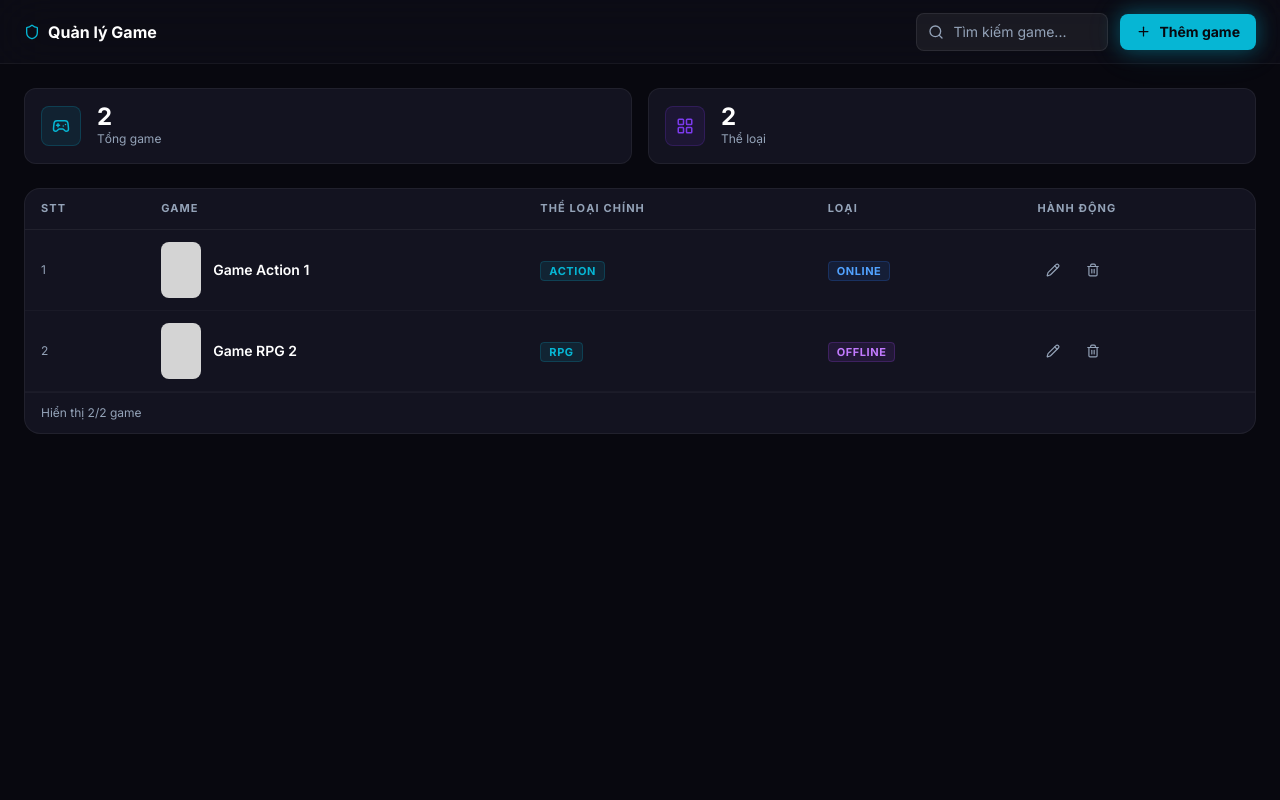
GameManagement Component › TC5: adds a new game successfully
Click the button "Thêm game" at (1188, 32), box 1120,14 -> 1256,50
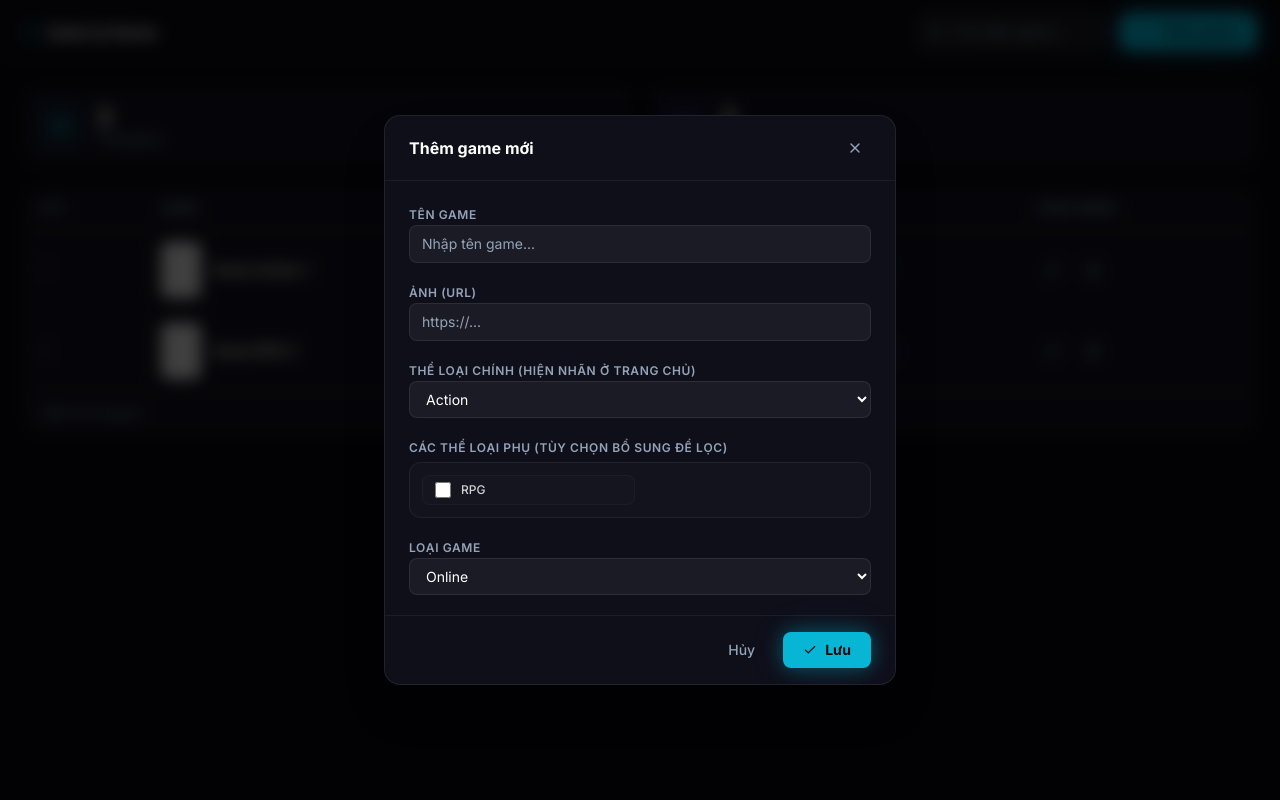
Type "New Game" into the field with placeholder "Nhập tên game..." at (640, 244), box 409,225 -> 871,263
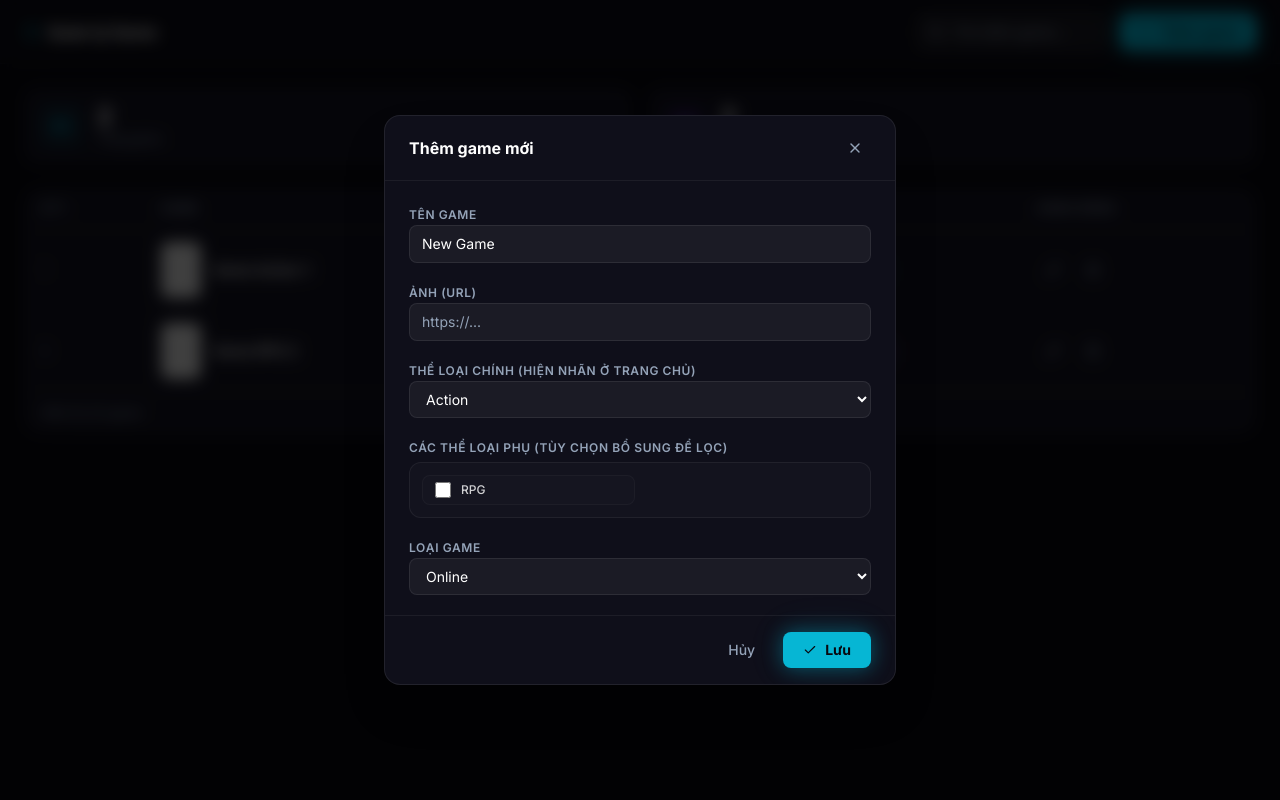
Type "https://example.com/new.jpg" into the field with placeholder "https://..." at (640, 322), box 409,303 -> 871,341
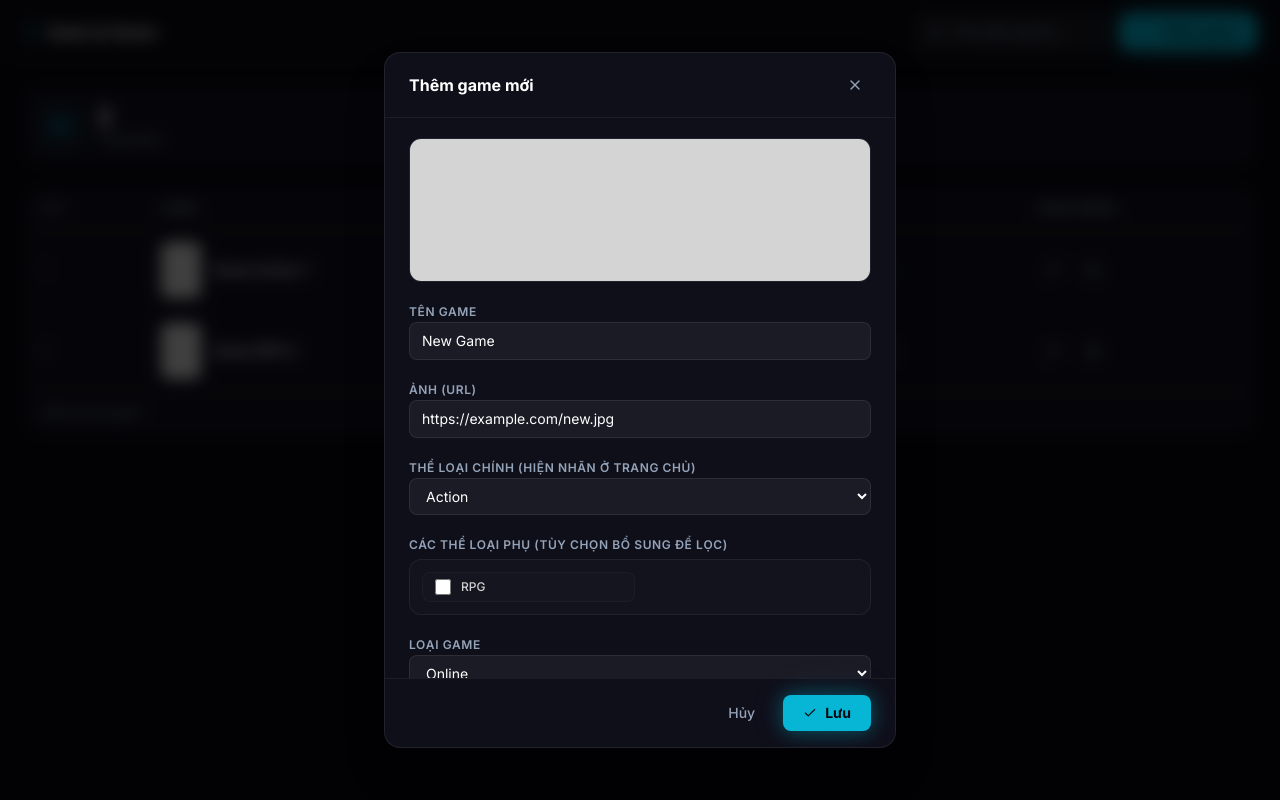
Click the button "Lưu" at (827, 713), box 783,695 -> 871,731
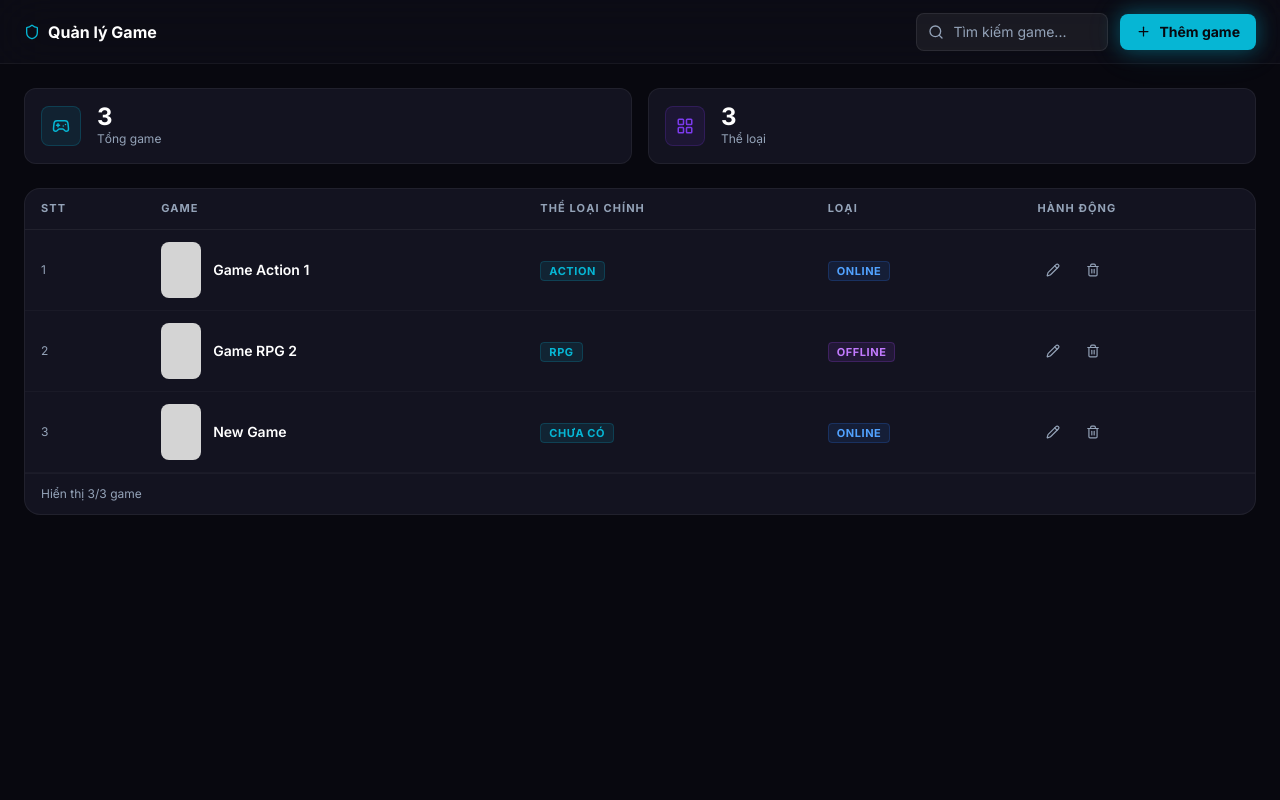
expect the text "New Game" is shown: met, box 213,422 -> 287,442
